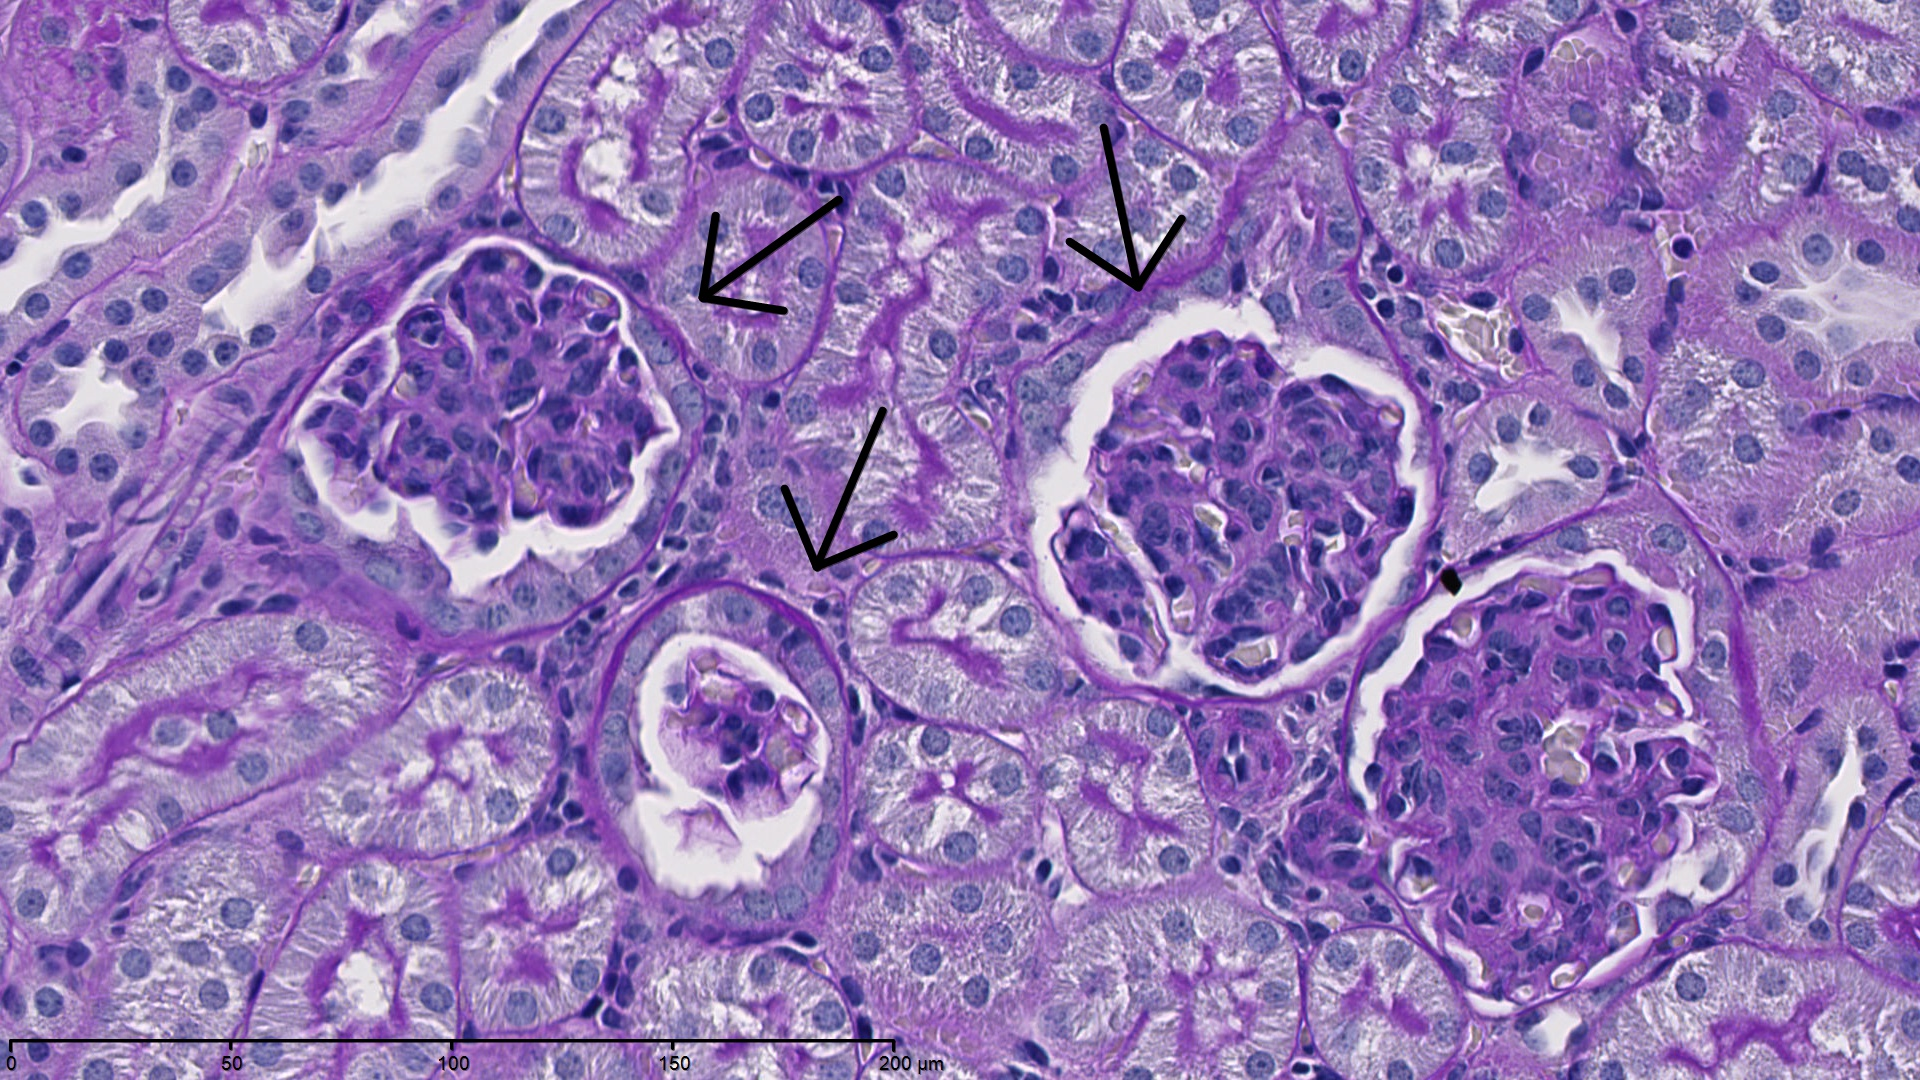Glomeruli: (1342, 555, 1756, 1022), (1026, 303, 1419, 690), (293, 232, 680, 599), (601, 604, 864, 934)
